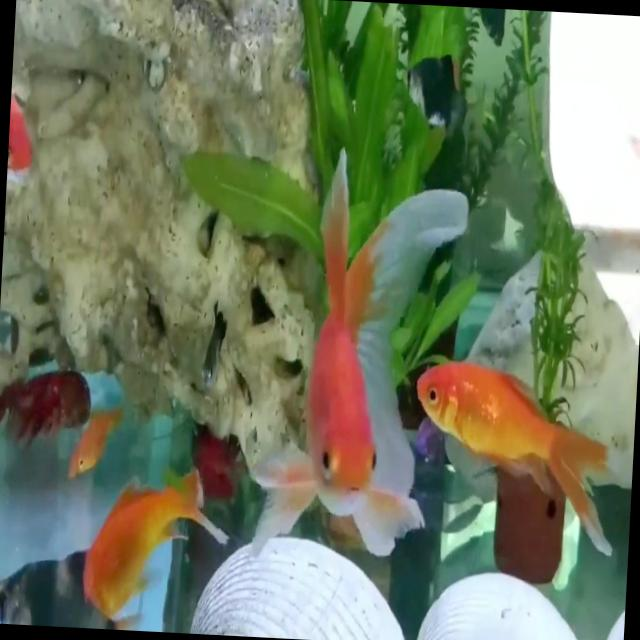GoldFish: (258, 134, 449, 594), (404, 355, 626, 556), (84, 470, 217, 610)
